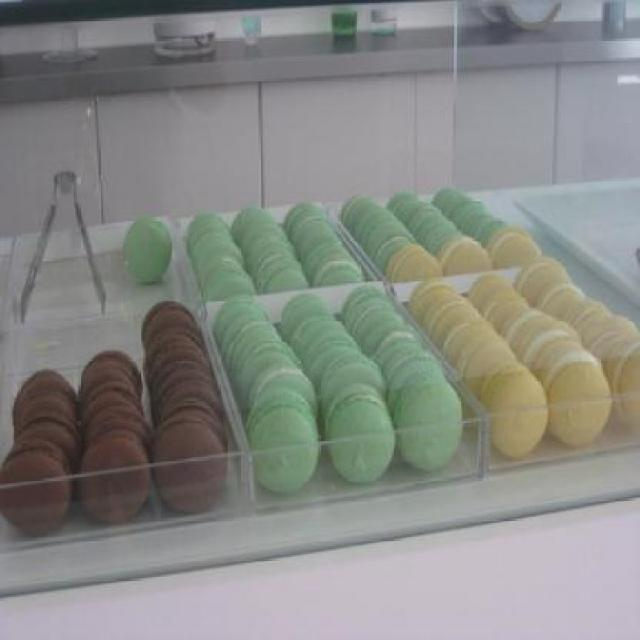Macaron: (6, 187, 638, 547)
